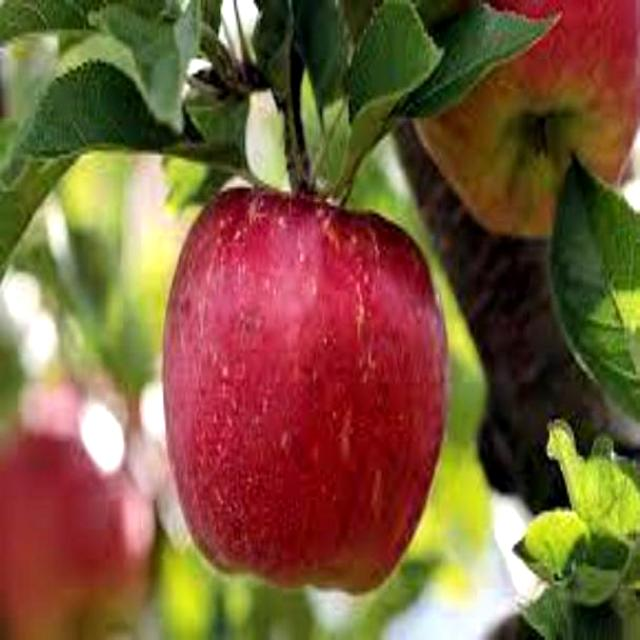HEALTHY: (132, 144, 482, 614)
